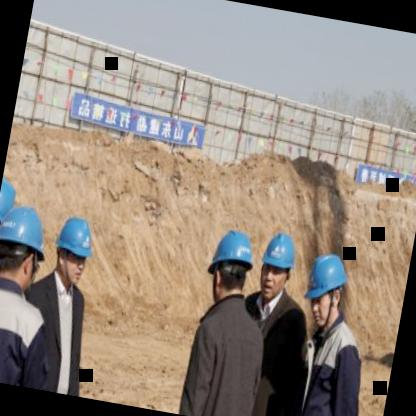helmet: (0, 197, 56, 293), (202, 224, 258, 308), (302, 250, 359, 329), (48, 210, 99, 292), (254, 228, 300, 303), (0, 171, 20, 268)
